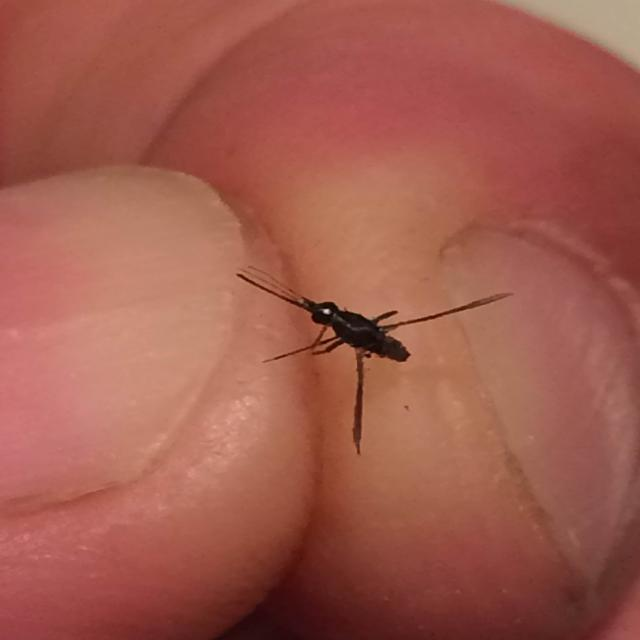albopictus: (231, 251, 506, 452)
